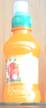orange: (4, 1, 42, 102)
